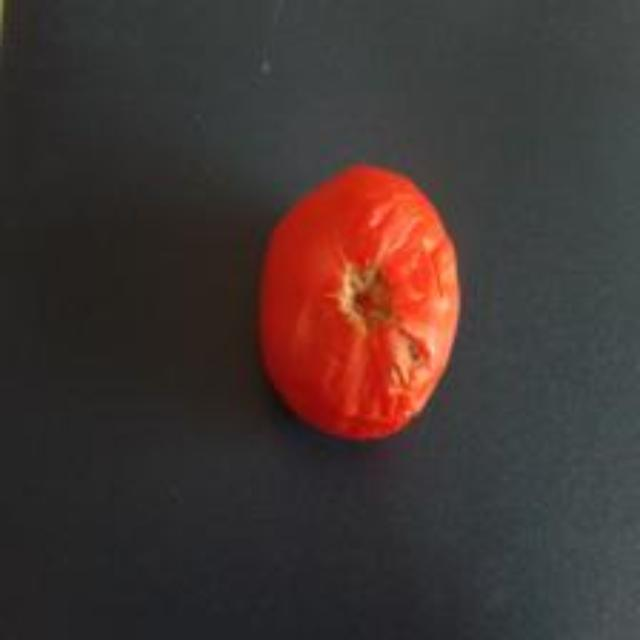defect: (258, 161, 462, 441)
